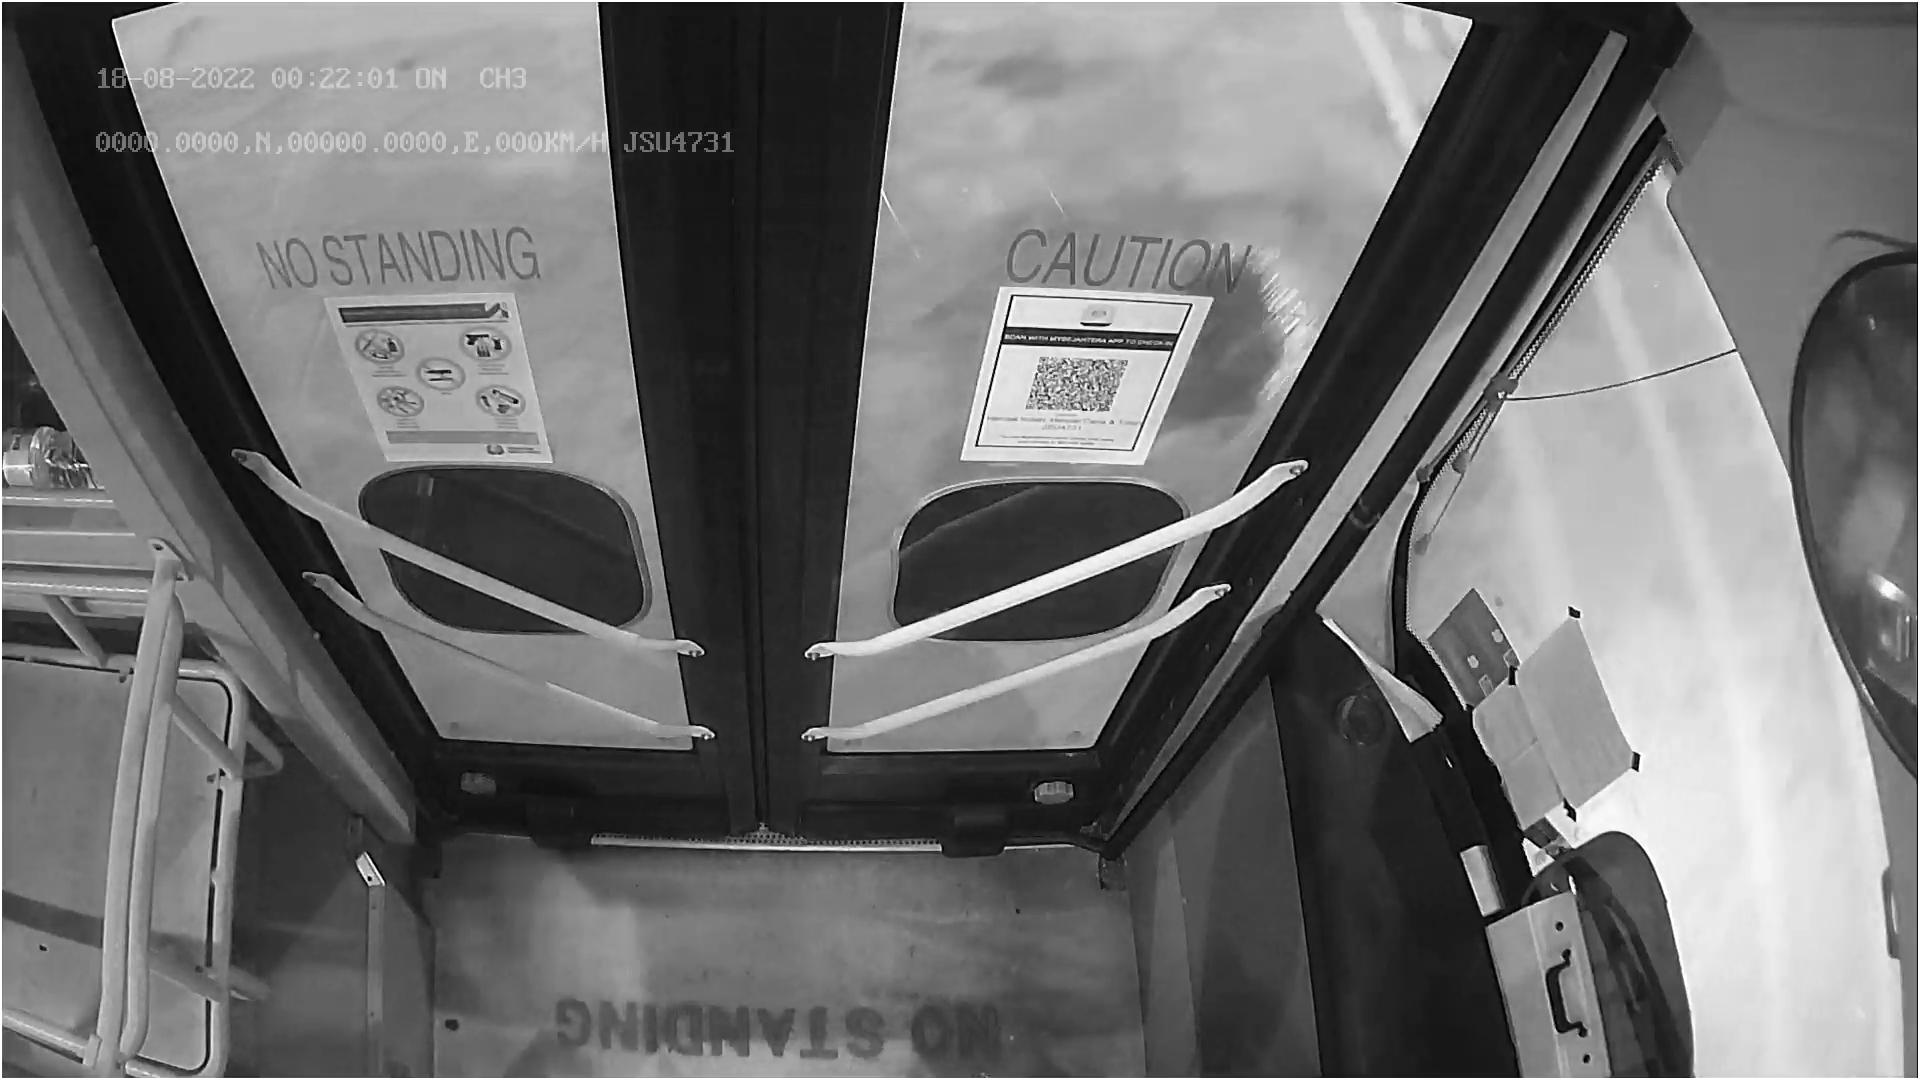close: (131, 0, 1451, 158)
